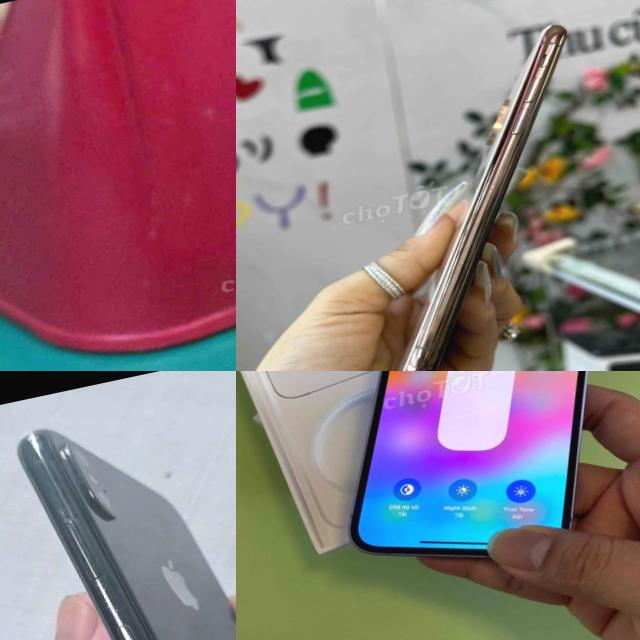gen_12_13: (289, 371, 640, 597)
gen_x_xs: (322, 19, 640, 371), (18, 429, 236, 640)
